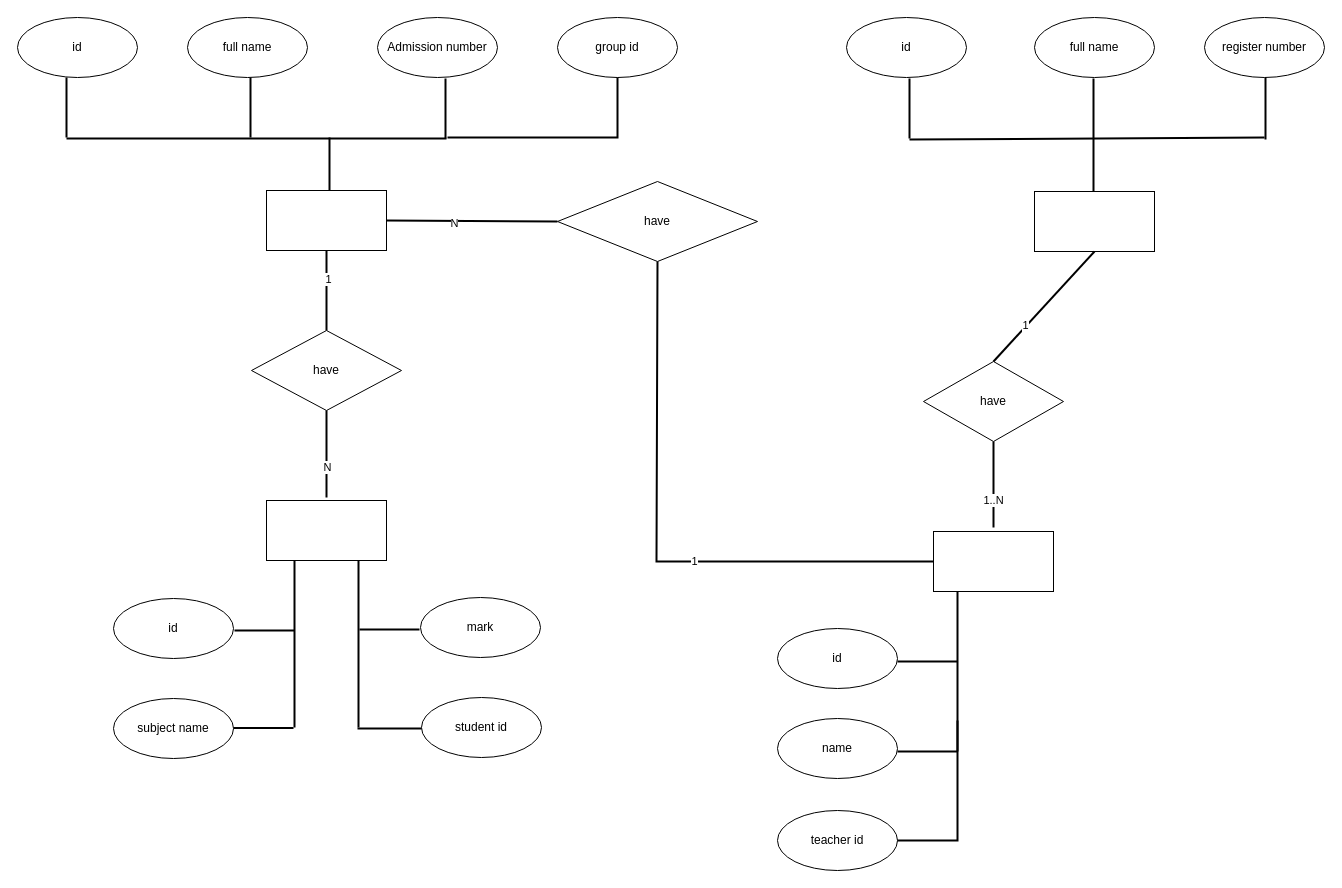
The diagram is 1342 pixels wide and 888 high, and some of its shapes have lost their labels. The box of each missing label's shape, as (x1, y1, x2, y2) in pixels:
Groups: (932, 530, 1054, 592)
Marks: (266, 500, 386, 560)
Student: (266, 190, 386, 250)
Teacher: (1034, 190, 1154, 252)
